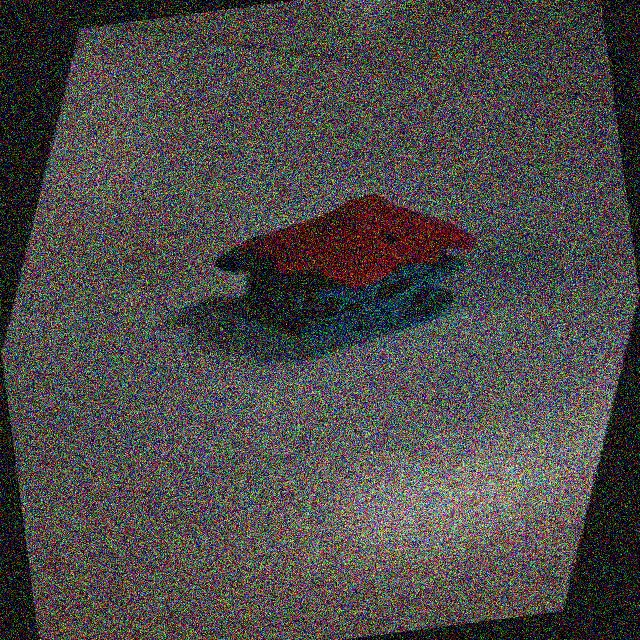House: (106, 147, 537, 398)
